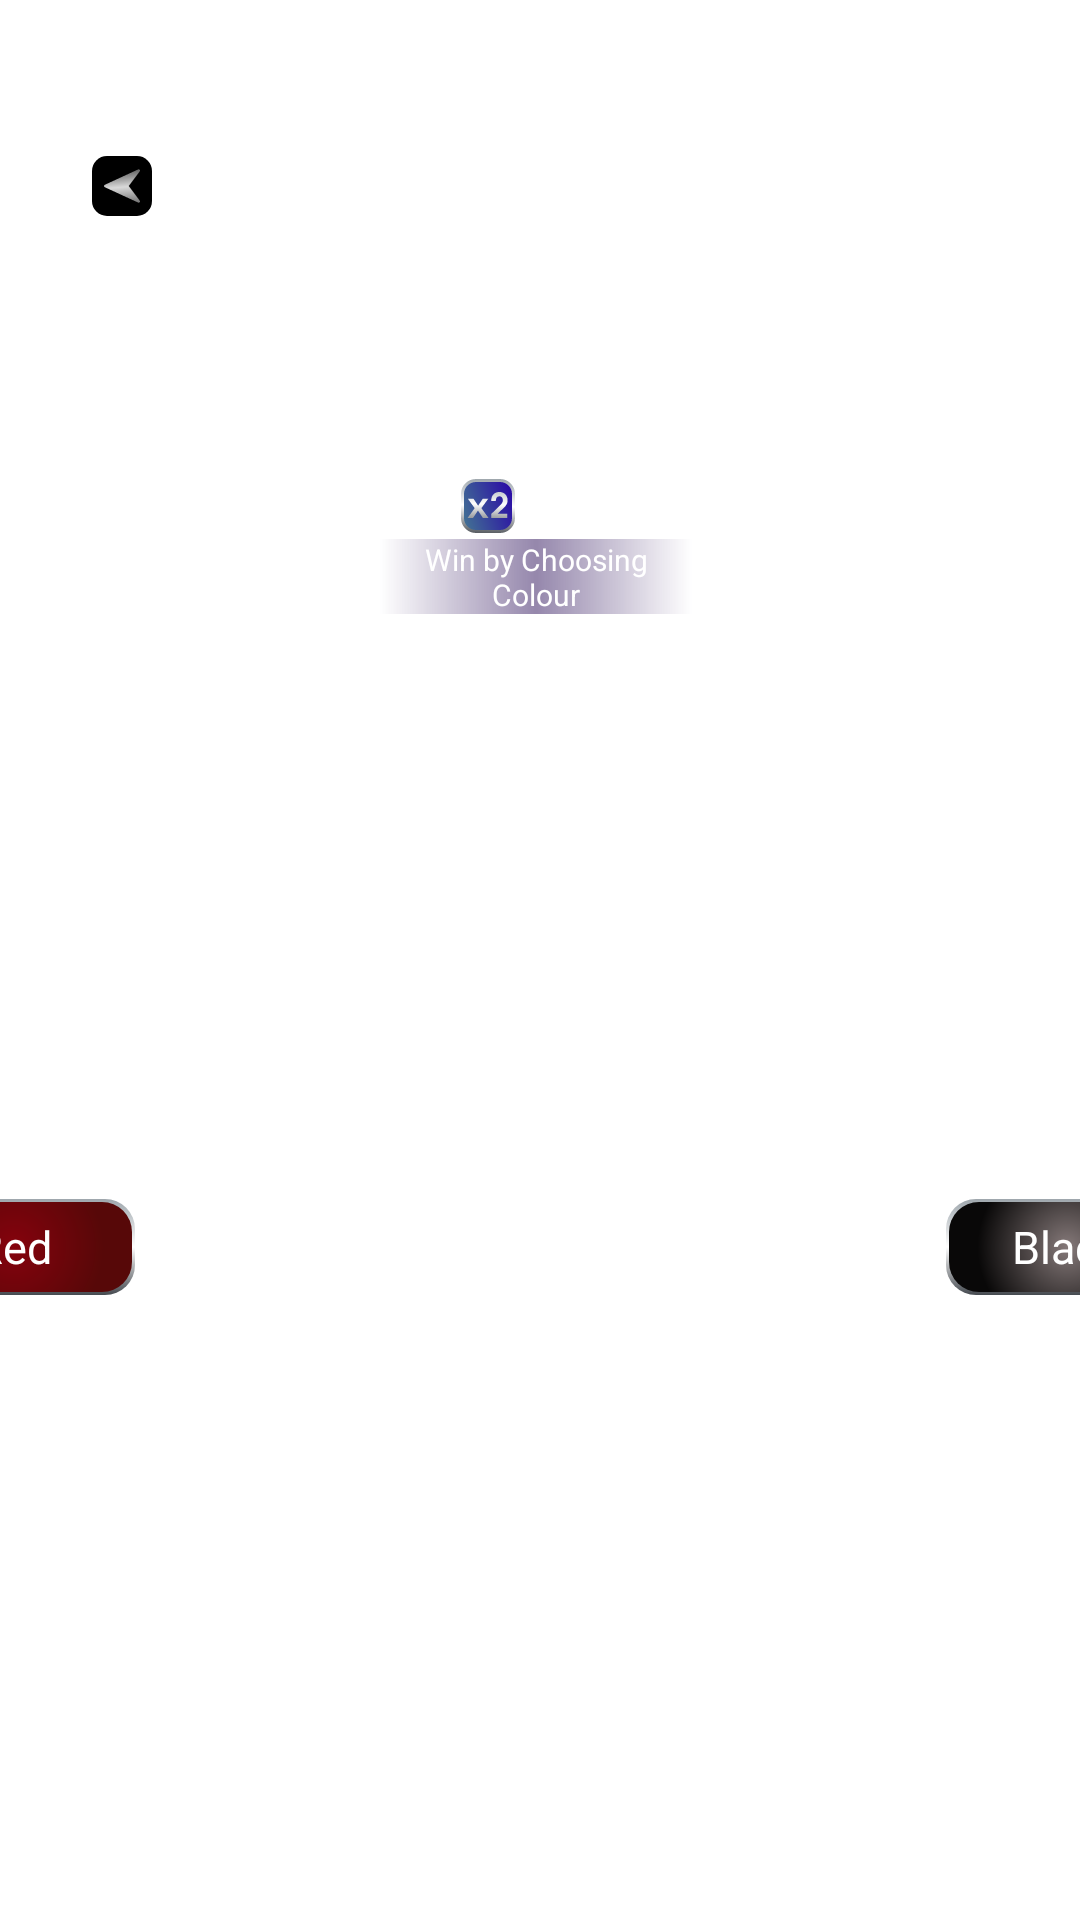

Locate icon controls on the screen. Image size 1080x1920, boxes as rect(x1, y1, x2, y2).
back: rect(104, 169, 140, 203)
